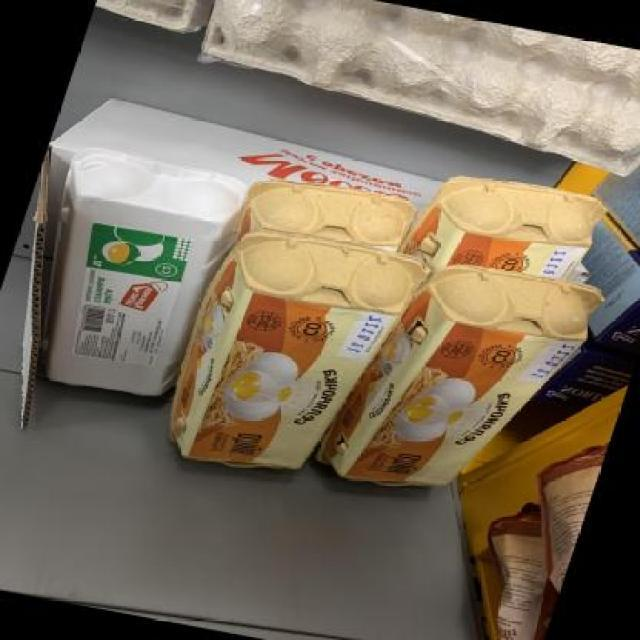egg: (329, 253, 608, 519), (151, 221, 420, 488), (0, 144, 249, 407), (411, 173, 609, 284), (238, 169, 418, 254)
